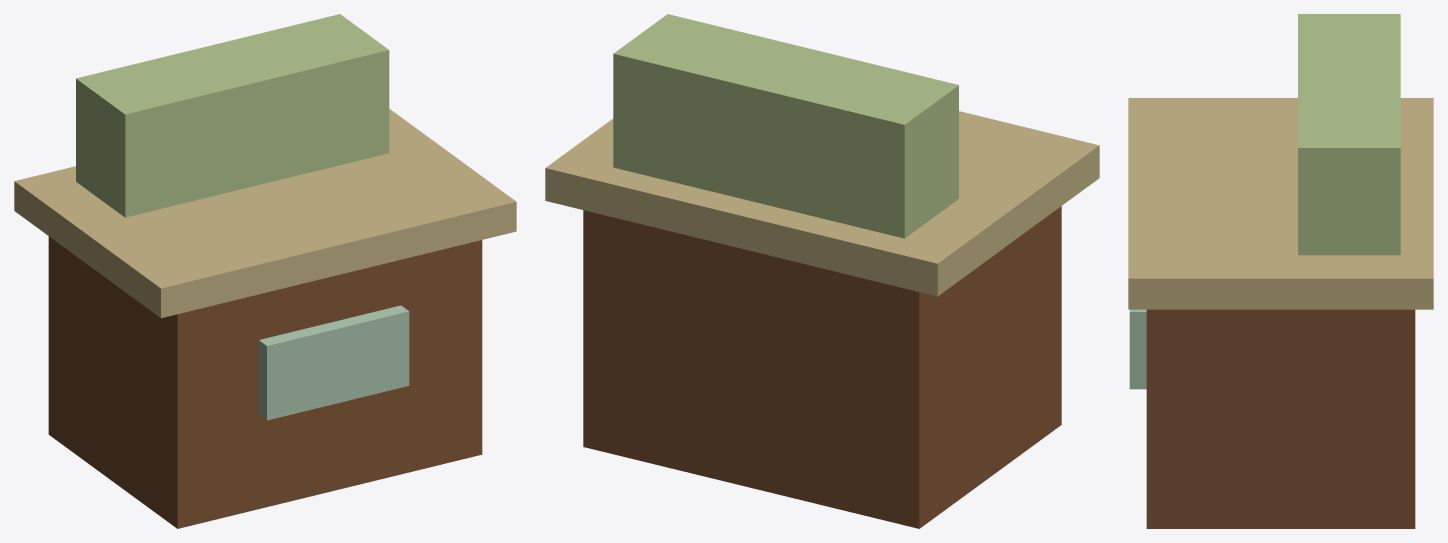
File: crate.glb
The picture shows the model from 3 angles, left to right: view 1: azimuth 30°, elevation 25°; view 2: azimuth 150°, elevation 25°; view 3: azimuth 270°, elevation 25°; orthographic projection. The views are drawn at different scales.
Visible parts, largest first — view 1: body, functional_surface, upper, accent_panel; view 2: body, upper, functional_surface; view 3: body, functional_surface, upper, accent_panel.
Boxes of the visible parts, left/top/right/bottom form: body: left=48, top=236, right=482, bottom=528; functional_surface: left=14, top=109, right=516, bottom=318; upper: left=76, top=14, right=389, bottom=217; accent_panel: left=259, top=305, right=409, bottom=420; body: left=583, top=206, right=1061, bottom=528; upper: left=613, top=14, right=958, bottom=238; functional_surface: left=545, top=111, right=1099, bottom=296; body: left=1146, top=309, right=1415, bottom=528; functional_surface: left=1128, top=98, right=1433, bottom=309; upper: left=1298, top=14, right=1400, bottom=255; accent_panel: left=1129, top=309, right=1146, bottom=389.
Size of what is drawn, in the model's own units: 1.75 by 1.68 by 1.25.
